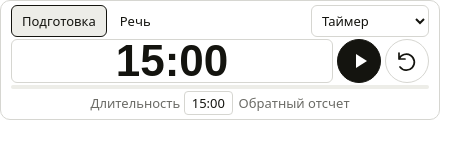
it: timer input and display › discards an edited main clock when mouse focuses the direction selector
Replace the text in the field named "Время, мм:сс" with "6:13" at point(172, 61), box [11,39,333,83]
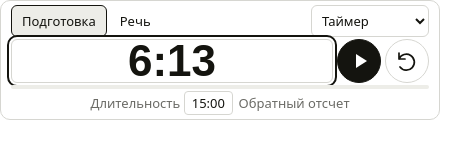
Click the dropdown named "Направление отсчета" at point(370, 21), box [311,5,429,37]
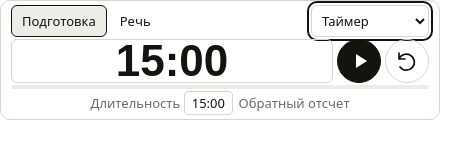
Select "Секундомер" in the dropdown named "Направление отсчета" at point(370, 21), box [311,5,429,37]
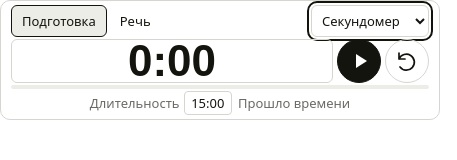
Check: the field named "Время, мм:сс" holds "0:00", box [11,39,333,83]
